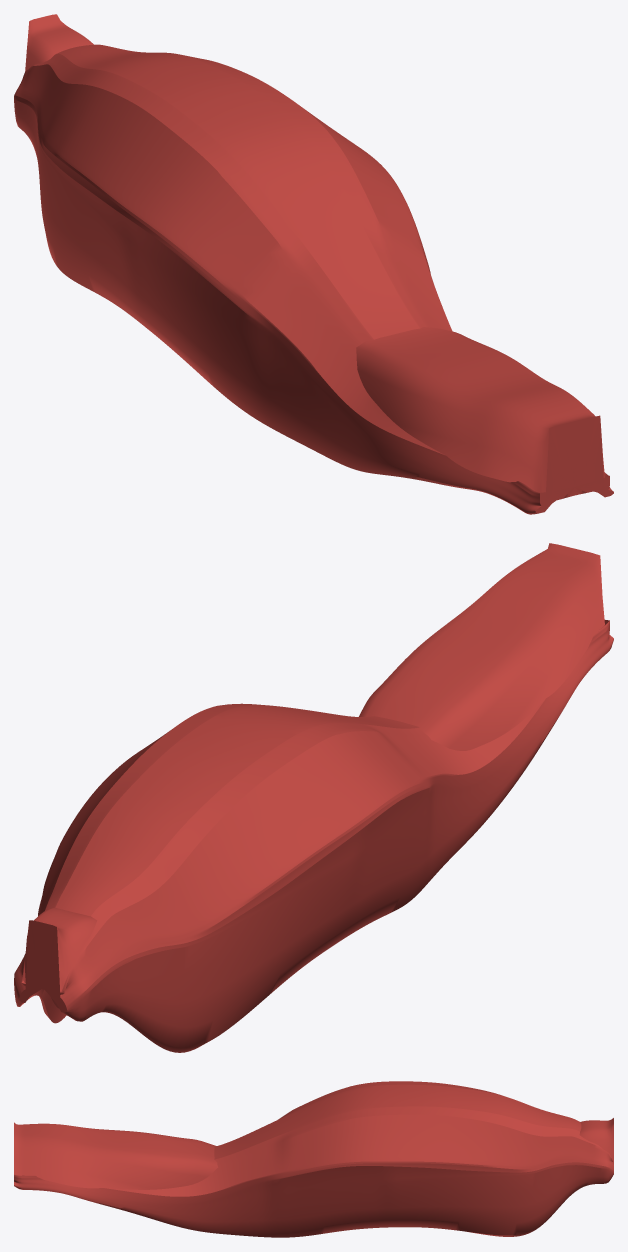
Rendered from adventure_4.glb.
3 views of the same model, one above another, from view 1: azimuth 30°, elevation 25°; view 2: azimuth 150°, elevation 25°; view 3: azimuth 270°, elevation 25° (orthographic). The views are drawn at different scales.
Visible parts, largest first — view 1: lod0; view 2: lod0; view 3: lod0.
Part boxes in pixels (left/top/right/bottom): lod0: left=14, top=14, right=613, bottom=514; lod0: left=14, top=543, right=613, bottom=1052; lod0: left=14, top=1081, right=613, bottom=1237.
Size of what is drawn, in the model's own units: 0.443 by 0.387 by 1.7.
